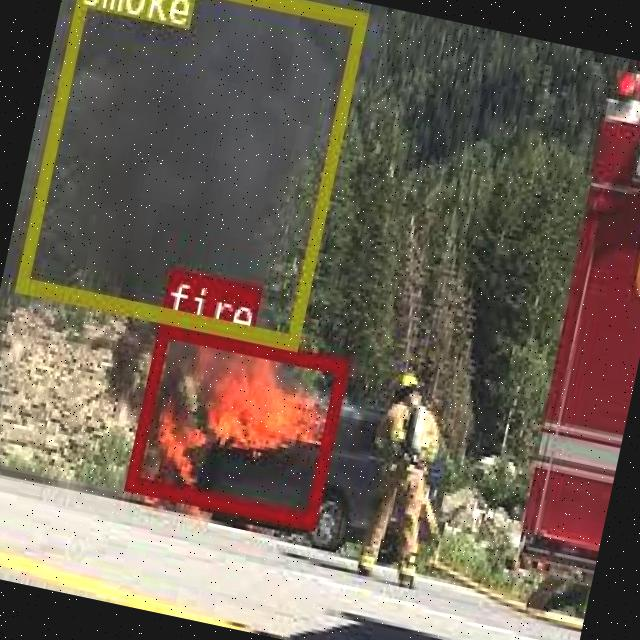fire: (124, 318, 346, 524)
smoke: (14, 0, 365, 344)
